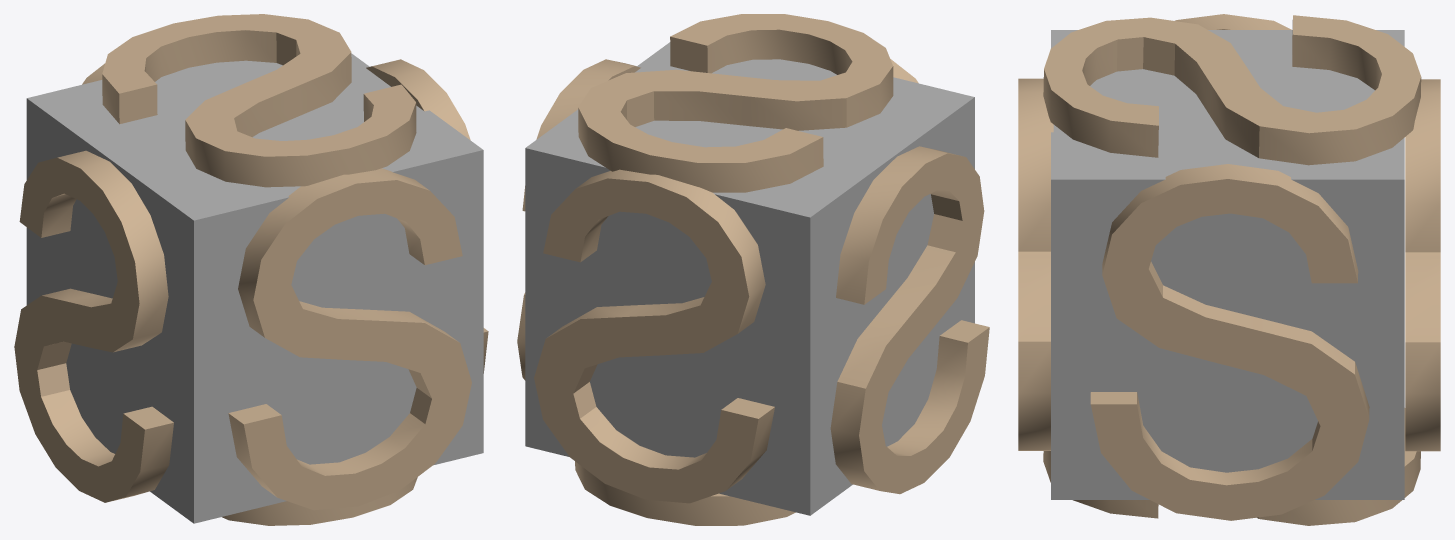
File: LetterS.fbx
The picture shows the model from 3 angles, left to right: view 1: azimuth 30°, elevation 25°; view 2: azimuth 150°, elevation 25°; view 3: azimuth 270°, elevation 25°; orthographic projection. The views are drawn at different scales.
Parts seen in each view (by area): view 1: Box, Text Front, Text Top, Text Left, Text Right, Text Bottom; view 2: Box, Text Back, Text Top, Text Left, Text Bottom, Text Right; view 3: Box, Text Right, Text Top, Text Back, Text Front, Text Bottom, Text Left.
Boxes of the visible parts, box(x1,y1,x2,y2) form: Box: box(26, 53, 483, 523); Text Front: box(228, 168, 471, 510); Text Top: box(102, 14, 416, 187); Text Left: box(14, 150, 173, 502); Text Right: box(366, 59, 488, 373); Text Bottom: box(222, 477, 417, 525); Box: box(525, 42, 974, 515); Text Back: box(534, 169, 774, 503); Text Top: box(578, 14, 893, 192); Text Left: box(830, 146, 989, 494); Text Bottom: box(575, 461, 795, 525); Text Right: box(517, 59, 640, 380); Box: box(1051, 30, 1404, 499); Text Right: box(1090, 164, 1369, 520); Text Top: box(1043, 15, 1421, 165); Text Back: box(1405, 79, 1440, 451); Text Front: box(1018, 78, 1053, 450); Text Bottom: box(1043, 408, 1420, 525); Text Left: box(1175, 14, 1291, 29).
Size of the model in its own units: 1.2 by 1.24 by 1.19.
